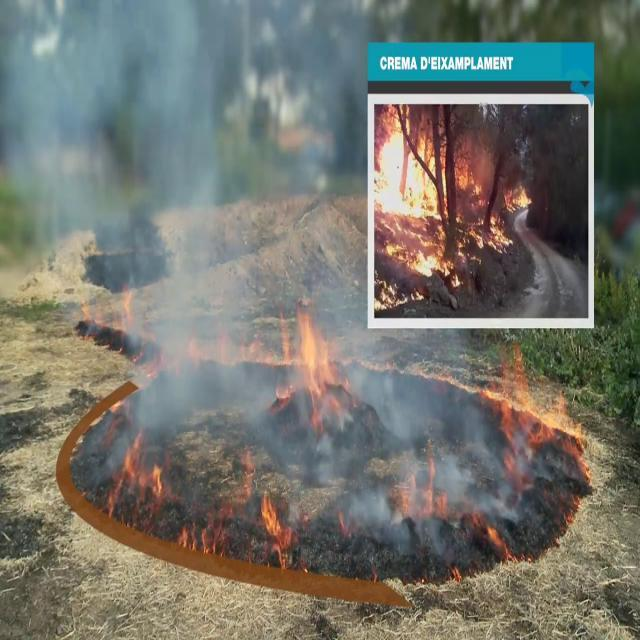Fire: (372, 104, 534, 288), (479, 339, 589, 481), (256, 300, 350, 423), (108, 424, 166, 510), (256, 490, 296, 567)
Smoke: (1, 0, 367, 510), (274, 338, 528, 554)
